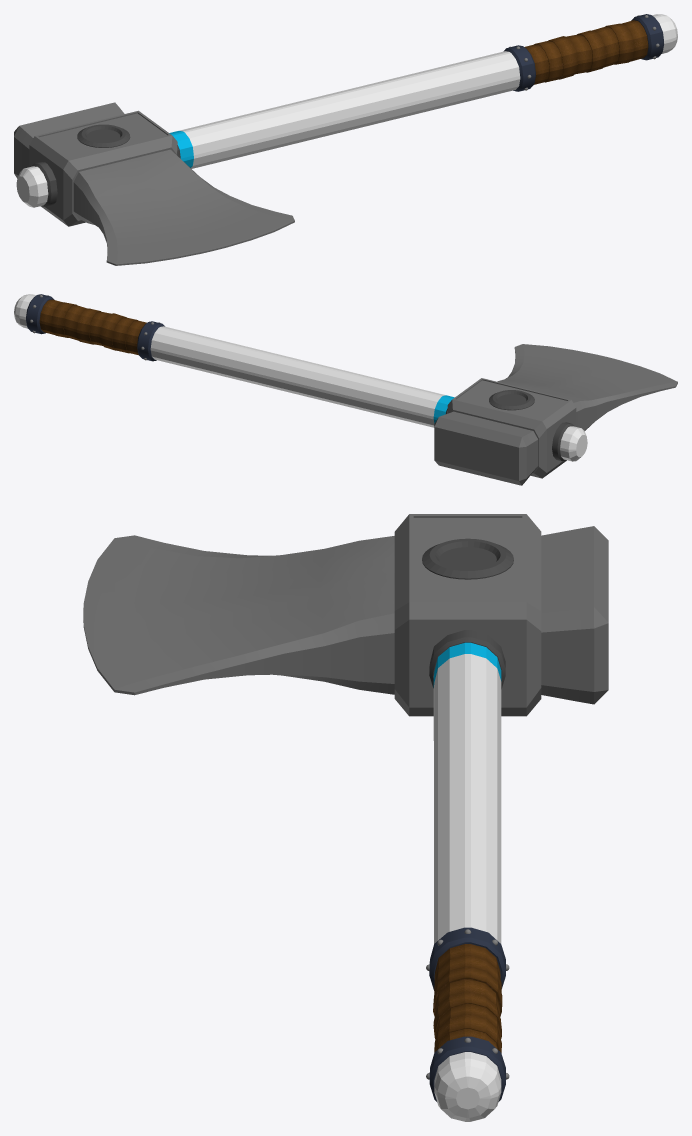
File: Axe.fbx
3 views of the same model, one above another, from view 1: azimuth 30°, elevation 25°; view 2: azimuth 150°, elevation 25°; view 3: azimuth 270°, elevation 25° (orthographic). The views are drawn at different scales.
Parts seen in each view (by area): view 1: Axe; view 2: Axe; view 3: Axe.
Part boxes in pixels (x1,y1,x2,y2): Axe: (14,14,677,265); Axe: (14,294,677,485); Axe: (83,514,608,1121).
Bounding box in the file's own units: 0.947 × 0.0953 × 0.3754.
